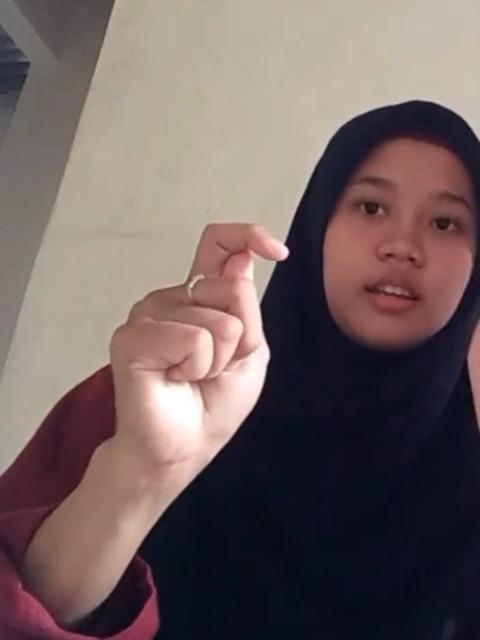T: (109, 220, 289, 470)
